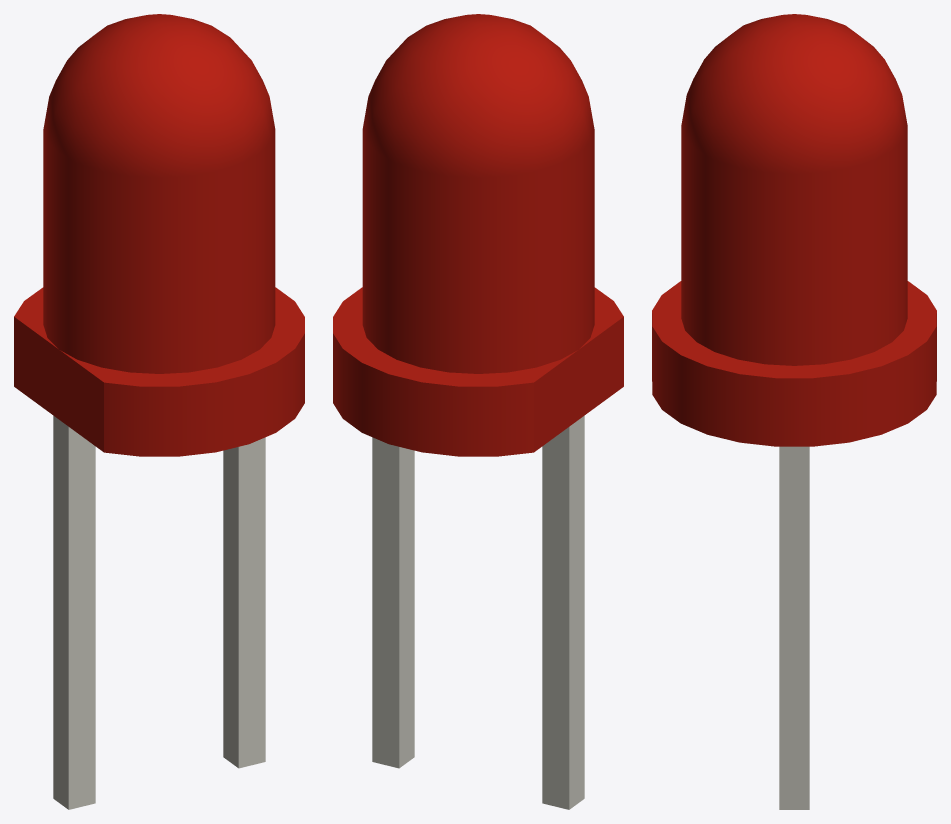
The model's file is LED_THT__LED_D3.0mm.glb.
3 renders of one model, left to right at view 1: azimuth 30°, elevation 25°; view 2: azimuth 150°, elevation 25°; view 3: azimuth 270°, elevation 25°, orthographic. The views are drawn at different scales.
Parts seen in each view (by area): view 1: LED_D3.0mm; view 2: LED_D3.0mm; view 3: LED_D3.0mm.
Part boxes in pixels (left/top/right/bottom): LED_D3.0mm: left=14, top=14, right=304, bottom=809; LED_D3.0mm: left=333, top=14, right=623, bottom=809; LED_D3.0mm: left=652, top=14, right=936, bottom=809.
Bounding box in the file's own units: 0.00338 × 0.0108 × 0.00377.
